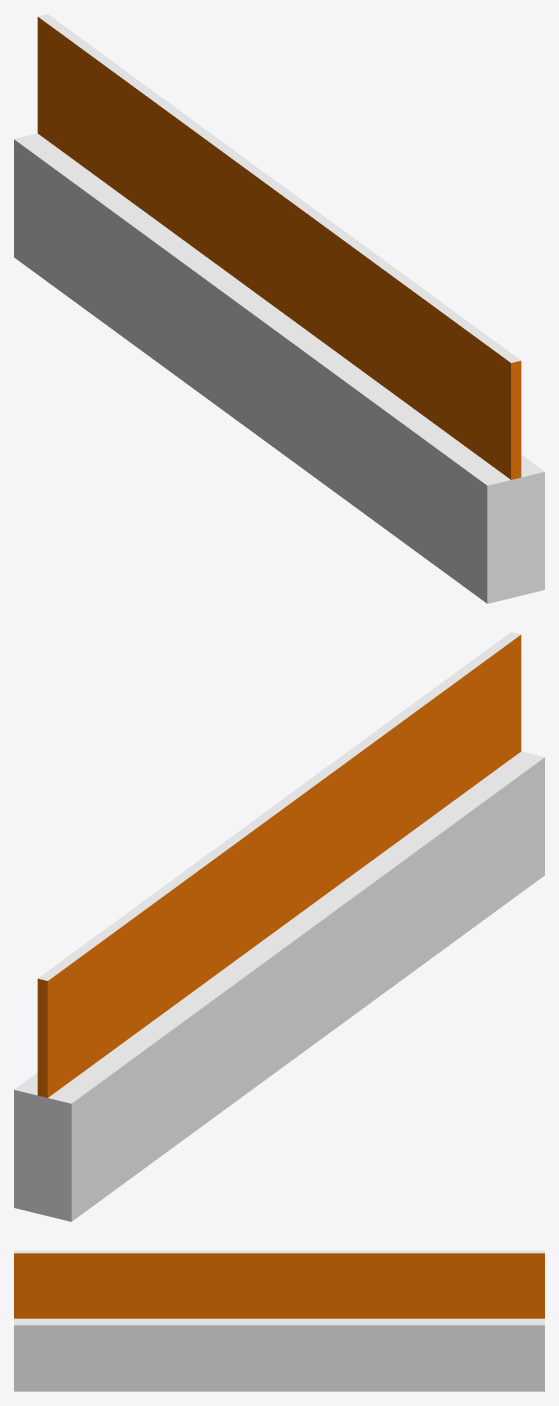
The model's file is BarrierDStraight.fbx.
3 renders of one model, top to bottom at view 1: azimuth 30°, elevation 25°; view 2: azimuth 150°, elevation 25°; view 3: azimuth 270°, elevation 25°, orthographic. The views are drawn at different scales.
Visible parts, largest first — view 1: BarrierDStraight; view 2: BarrierDStraight; view 3: BarrierDStraight.
Boxes of the visible parts, x1,y1,x2,y2 form: BarrierDStraight: [14, 14, 544, 603]; BarrierDStraight: [14, 632, 544, 1221]; BarrierDStraight: [14, 1250, 544, 1391].
Bounding box in the file's own units: 14.03 × 54.79 × 200.
1 material, 1 textured.
